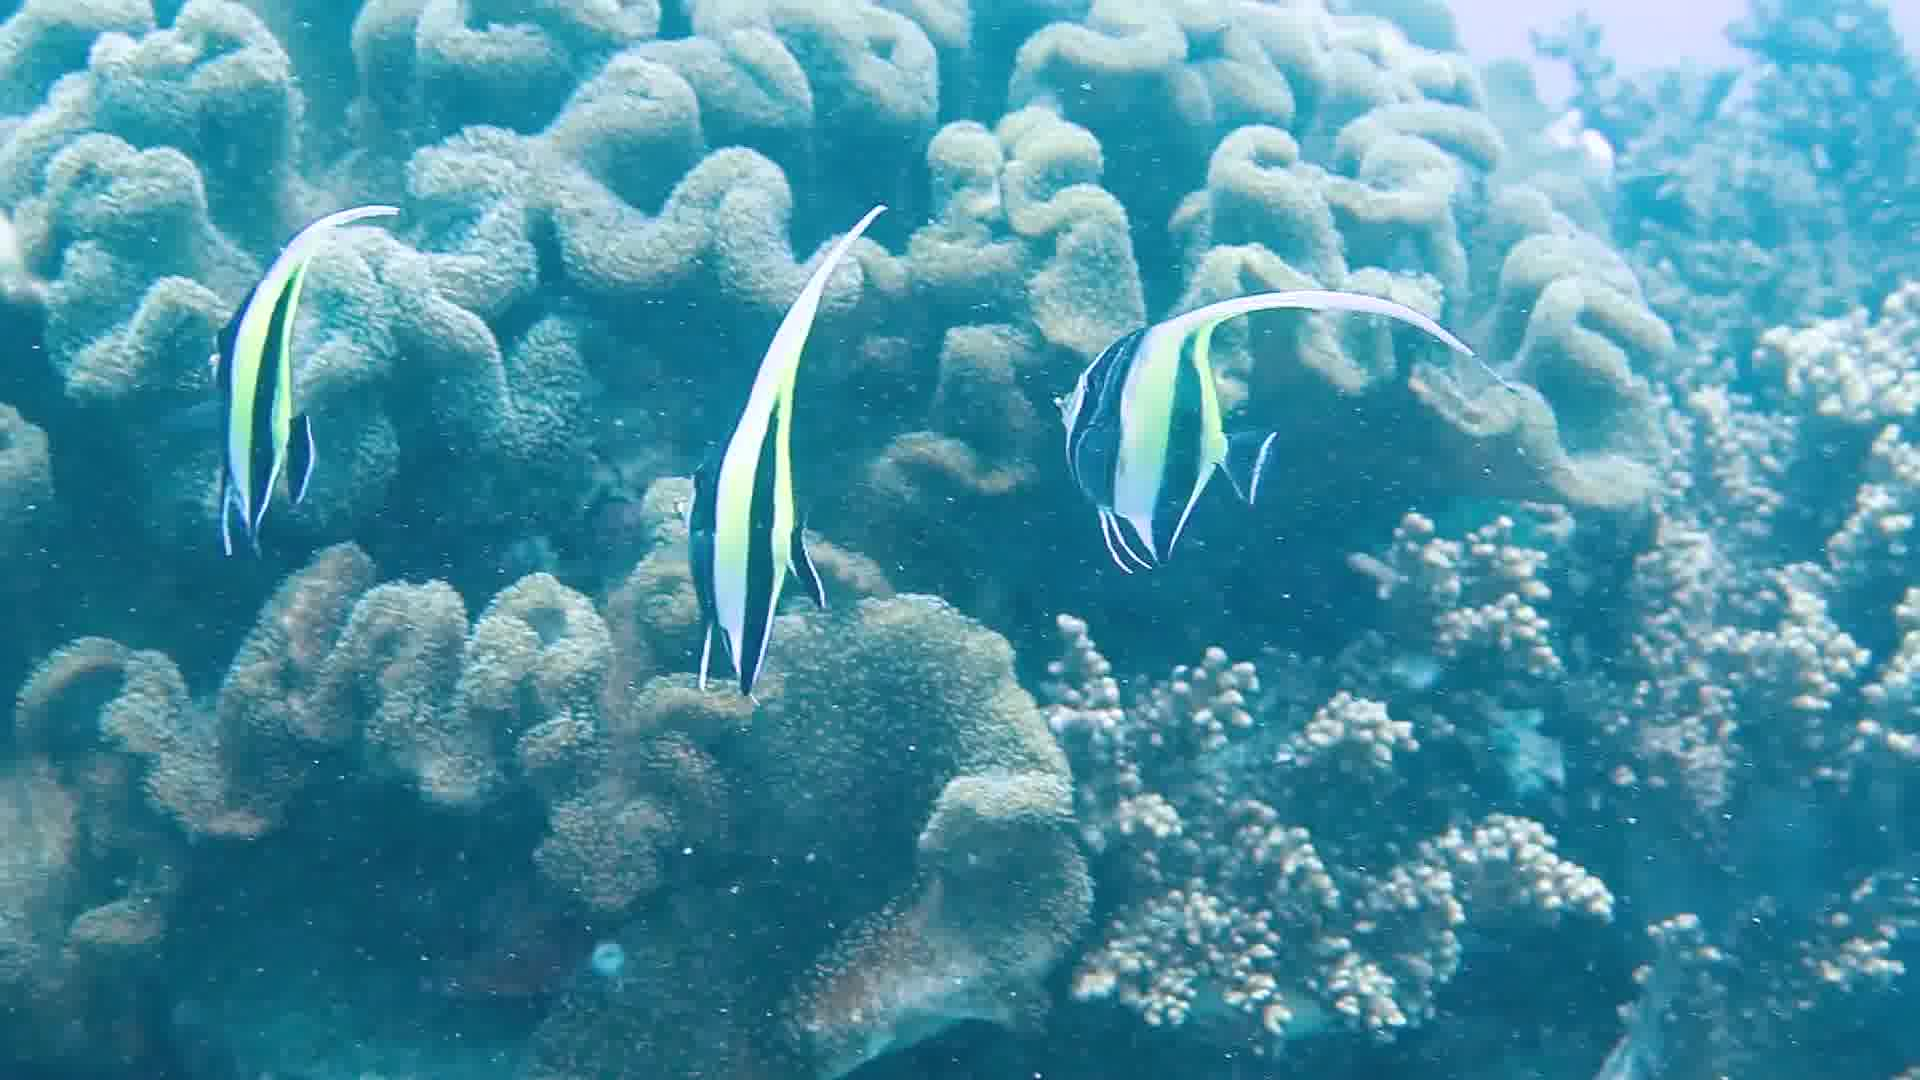Zanclus cornutus: (171, 229, 421, 560), (1044, 240, 1294, 570), (647, 349, 897, 679)
